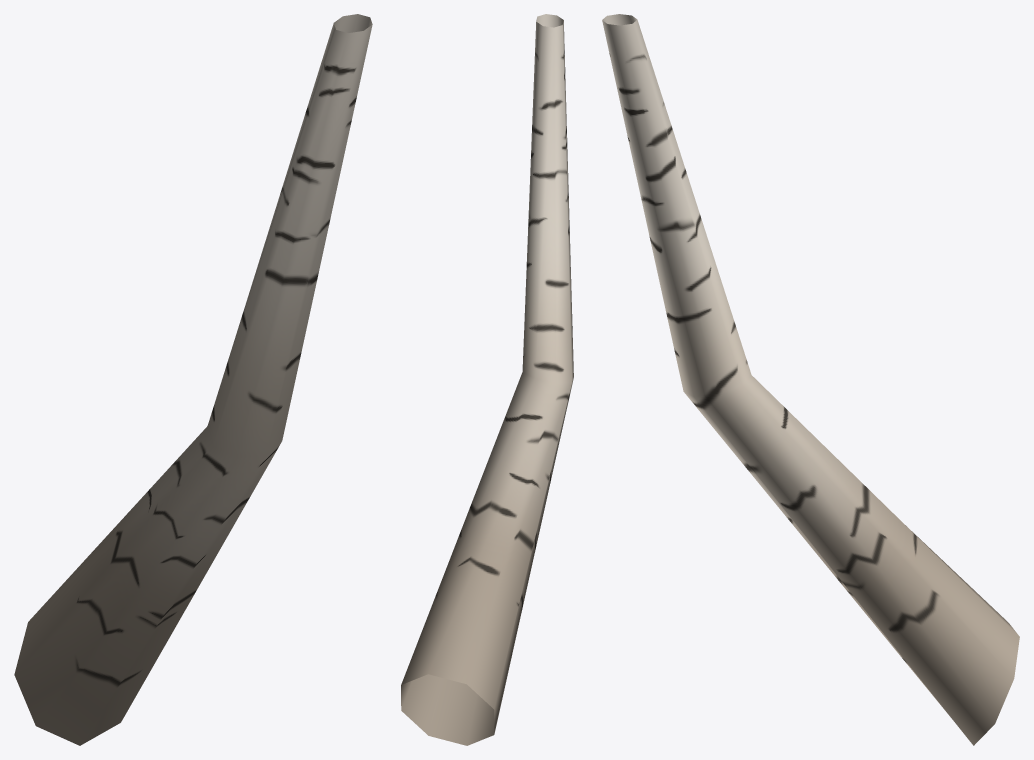
File: Rama_2.fbx
3 views of the same model, side by side, from view 1: azimuth 30°, elevation 25°; view 2: azimuth 150°, elevation 25°; view 3: azimuth 270°, elevation 25° (orthographic). The views are drawn at different scales.
Parts seen in each view (by area): view 1: Rama_2; view 2: Rama_2; view 3: Rama_2.
Boxes of the visible parts, x1,y1,x2,y2 form: Rama_2: (14,14,372,745); Rama_2: (401,14,573,745); Rama_2: (602,14,1019,745).
Bounding box in the file's own units: 98.96 × 541 × 274.
